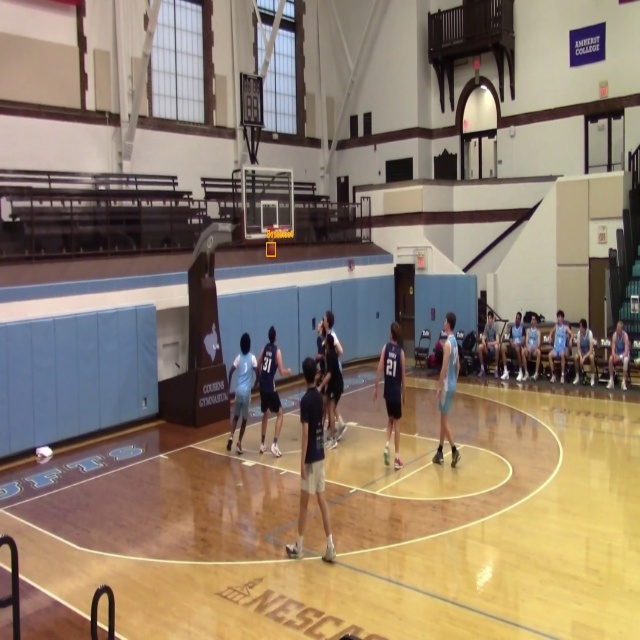Basketball: (267, 243, 276, 257)
